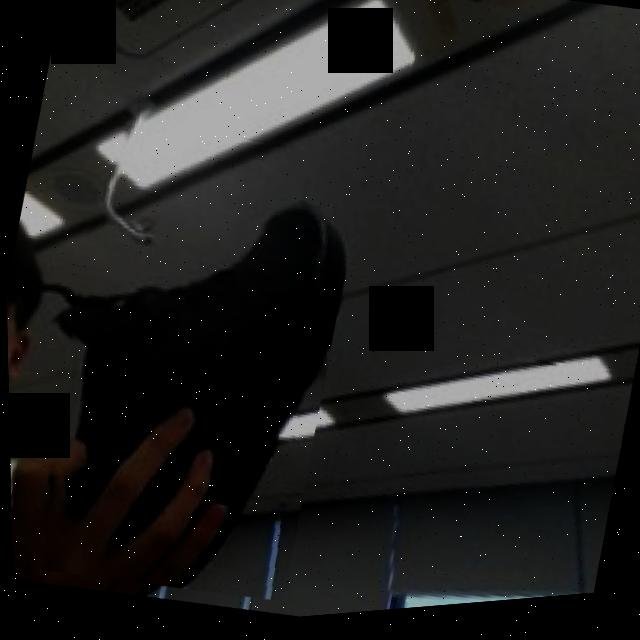shoe: (11, 161, 361, 623)
